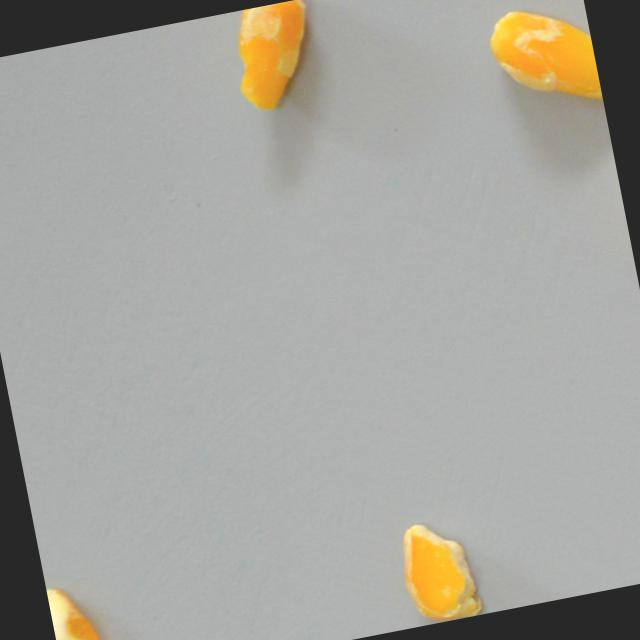pelicula: (482, 0, 604, 122), (223, 0, 328, 117), (394, 512, 485, 628)
